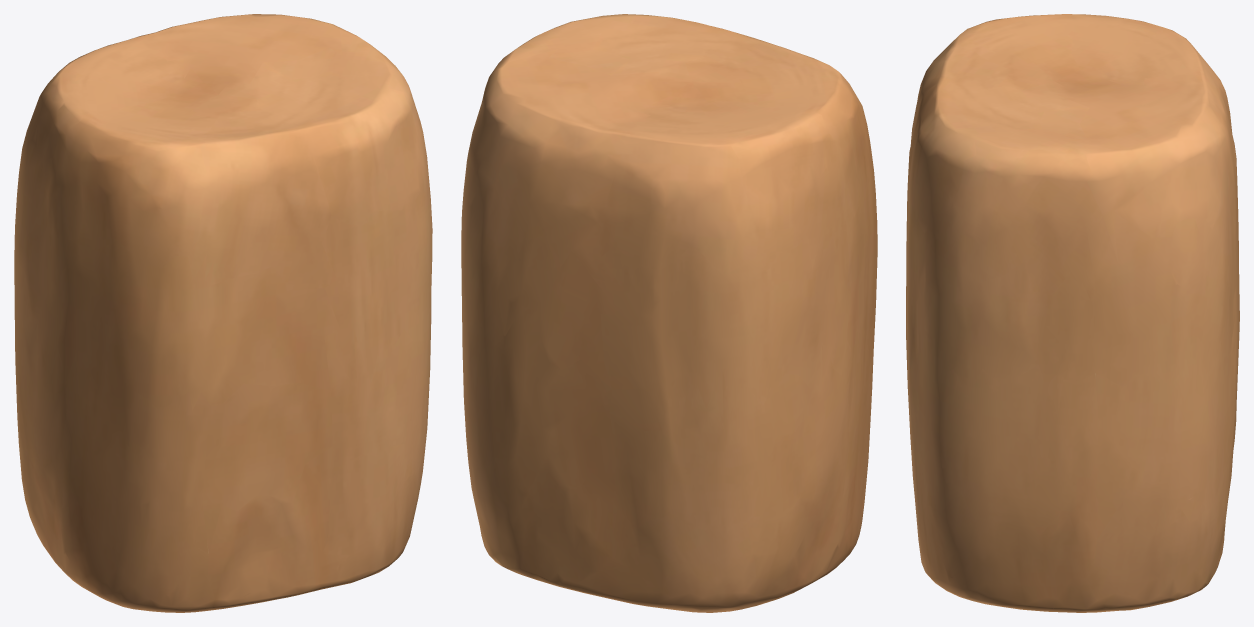
Rendered from factory-product-billet.glb.
3 renders of one model, left to right at view 1: azimuth 30°, elevation 25°; view 2: azimuth 150°, elevation 25°; view 3: azimuth 270°, elevation 25°, orthographic.
Parts seen in each view (by area): view 1: billet; view 2: billet; view 3: billet.
Part boxes in pixels (left/top/right/bottom): billet: left=14, top=14, right=432, bottom=612; billet: left=461, top=14, right=877, bottom=612; billet: left=906, top=14, right=1239, bottom=612.
Size of the model in its own units: 0.55 by 0.7112 by 0.4663.
Materials: 1 (1 with a texture image).
